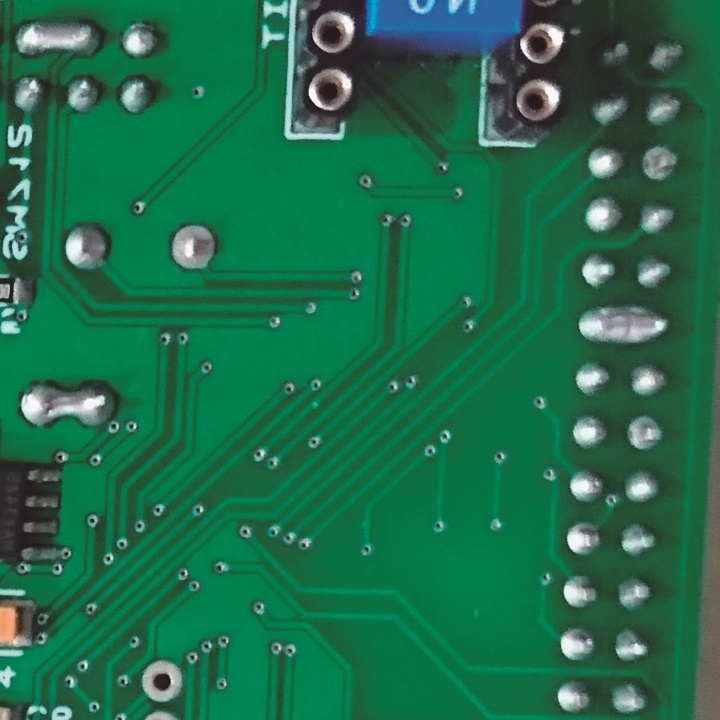F: (165, 219, 221, 270), (139, 655, 187, 703), (627, 413, 668, 457), (641, 141, 679, 185), (557, 623, 595, 664), (565, 522, 604, 558)
P: (20, 374, 120, 434), (579, 300, 673, 352), (11, 18, 107, 65)
